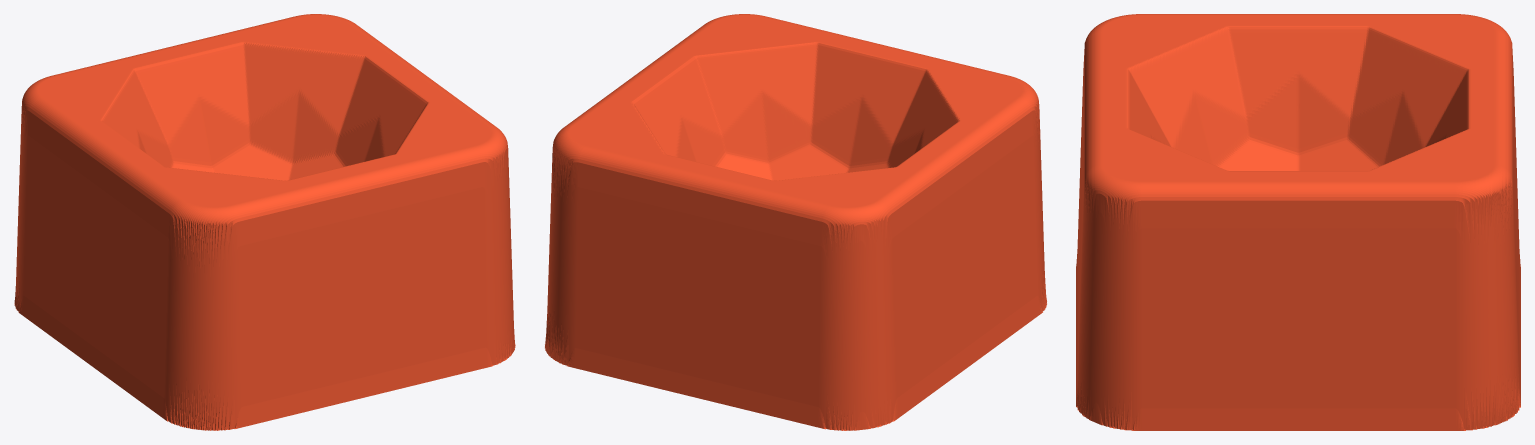
Rendered from mold.glb.
3 renders of one model, left to right at view 1: azimuth 30°, elevation 25°; view 2: azimuth 150°, elevation 25°; view 3: azimuth 270°, elevation 25°, orthographic. The views are drawn at different scales.
Visible parts, largest first — view 1: geometry_0; view 2: geometry_0; view 3: geometry_0.
Boxes of the visible parts, x1,y1,x2,y2 form: geometry_0: [14, 14, 515, 430]; geometry_0: [545, 14, 1046, 430]; geometry_0: [1076, 14, 1520, 430].
Size of the model in its own units: 0.0614 by 0.0363 by 0.0614.
